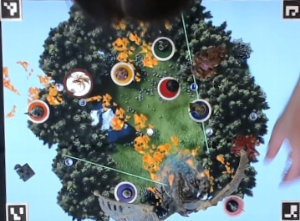blue: (187, 96, 212, 123)
green: (151, 35, 175, 62)
orange: (23, 97, 54, 124)
pink: (221, 193, 246, 216)
red: (156, 73, 183, 102)
violet: (112, 178, 139, 204)
yellow: (108, 60, 136, 87)
